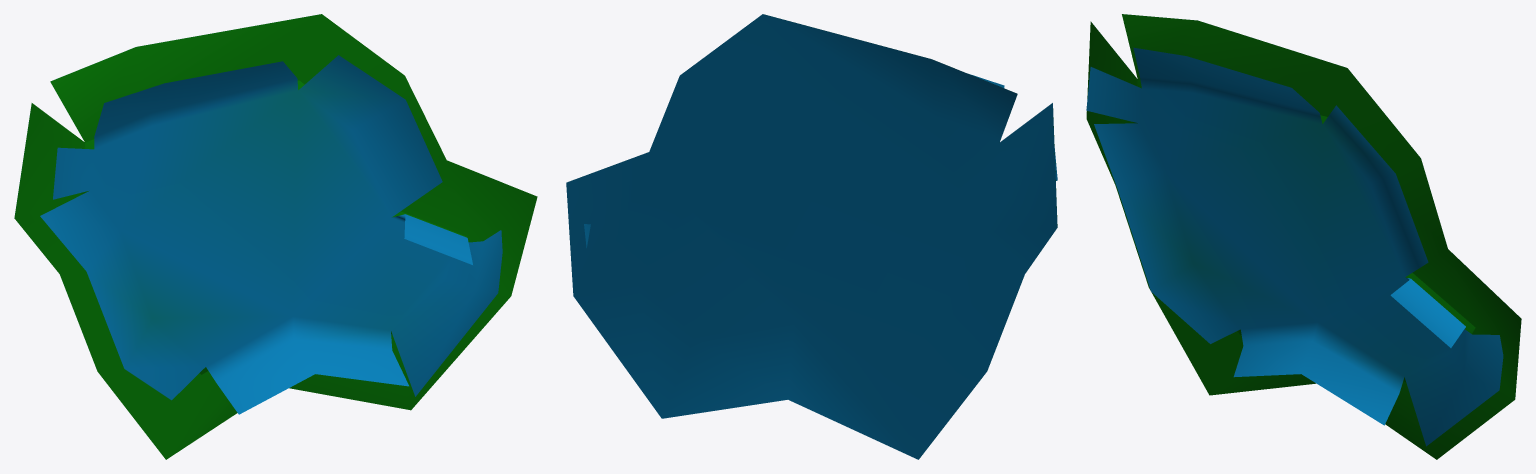
File: DBK_Drywall_Prop_Big_A.fbx
3 views of the same model, side by side, from view 1: azimuth 30°, elevation 25°; view 2: azimuth 150°, elevation 25°; view 3: azimuth 330°, elevation 25° (orthographic). The views are drawn at different scales.
Parts seen in each view (by area): view 1: DBK_Drywall_Prop_Big_A; view 2: DBK_Drywall_Prop_Big_A; view 3: DBK_Drywall_Prop_Big_A.
Part boxes in pixels (box(x1,y1,x2,y2)): DBK_Drywall_Prop_Big_A: box(14, 14, 537, 459); DBK_Drywall_Prop_Big_A: box(566, 14, 1057, 459); DBK_Drywall_Prop_Big_A: box(1086, 14, 1521, 459).
Size of what is drawn, in the model's own units: 255 by 206 by 27.99.
